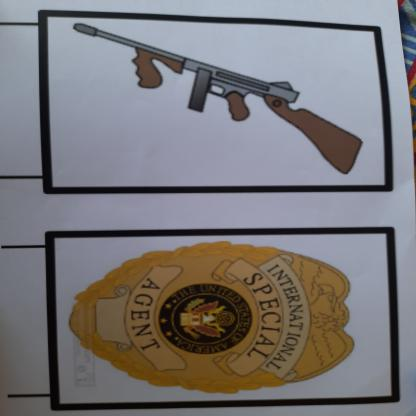Bootlegger: (63, 15, 376, 183)
G-man: (48, 237, 360, 400)
